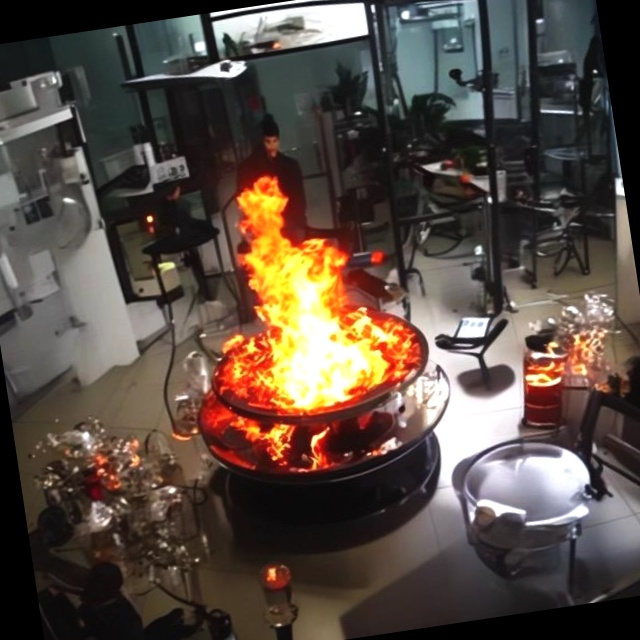fire: (193, 151, 426, 447), (509, 300, 619, 404)
